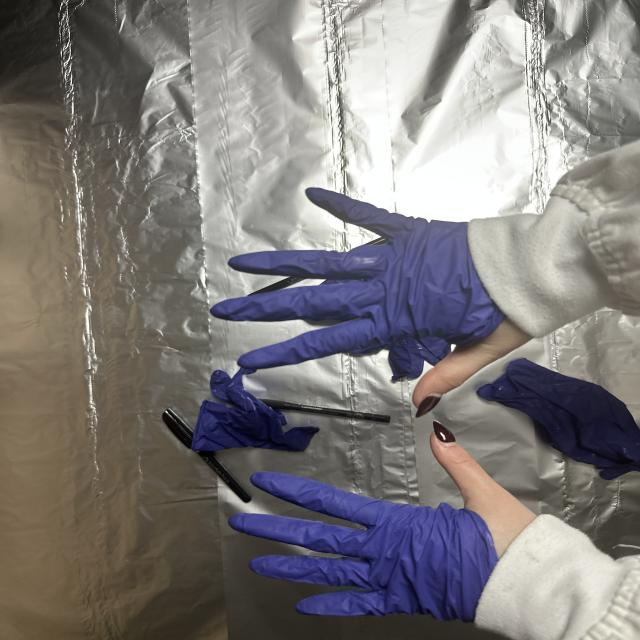glove_partial: (208, 184, 543, 419), (225, 421, 545, 629)
